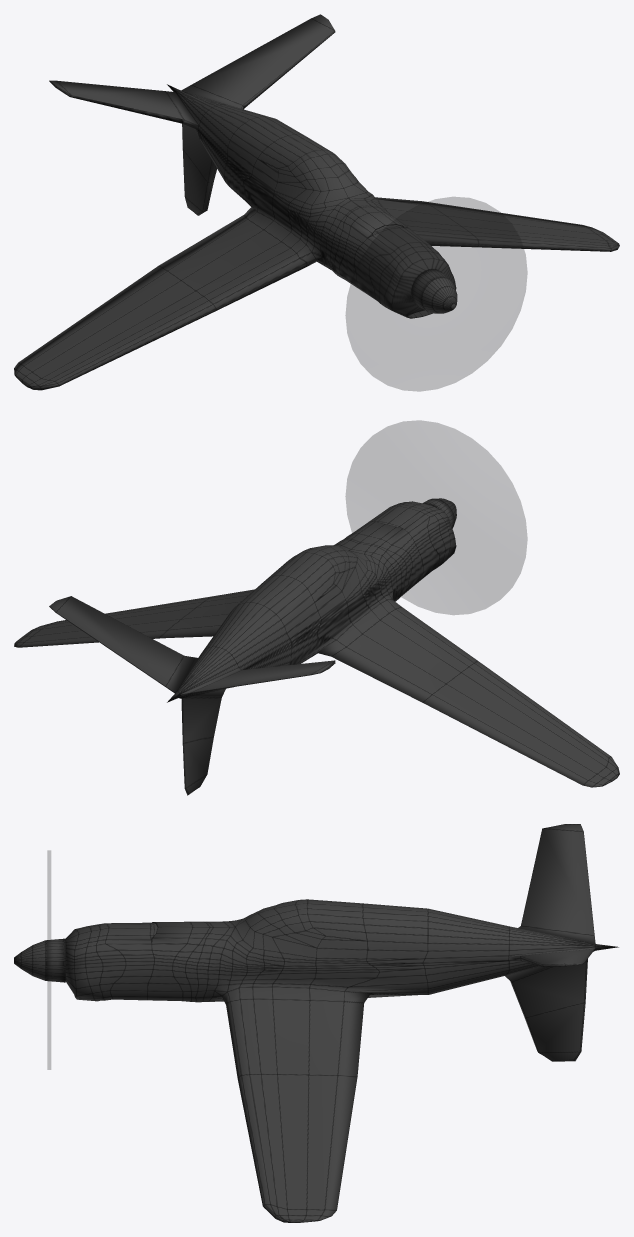
Rendered from whole_plane.fbx.
The picture shows the model from 3 angles, top to bottom: view 1: azimuth 30°, elevation 25°; view 2: azimuth 150°, elevation 25°; view 3: azimuth 270°, elevation 25°; orthographic projection. The views are drawn at different scales.
Visible parts, largest first — view 1: Propeller; view 2: Propeller; view 3: Propeller.
Part boxes in pixels (<box>): Propeller: <box>14,14,619,391</box>; Propeller: <box>14,420,619,795</box>; Propeller: <box>14,824,618,1222</box>.
Bounding box in the file's own units: 5.53 × 1.79 × 4.65.
2 materials, 1 textured.
